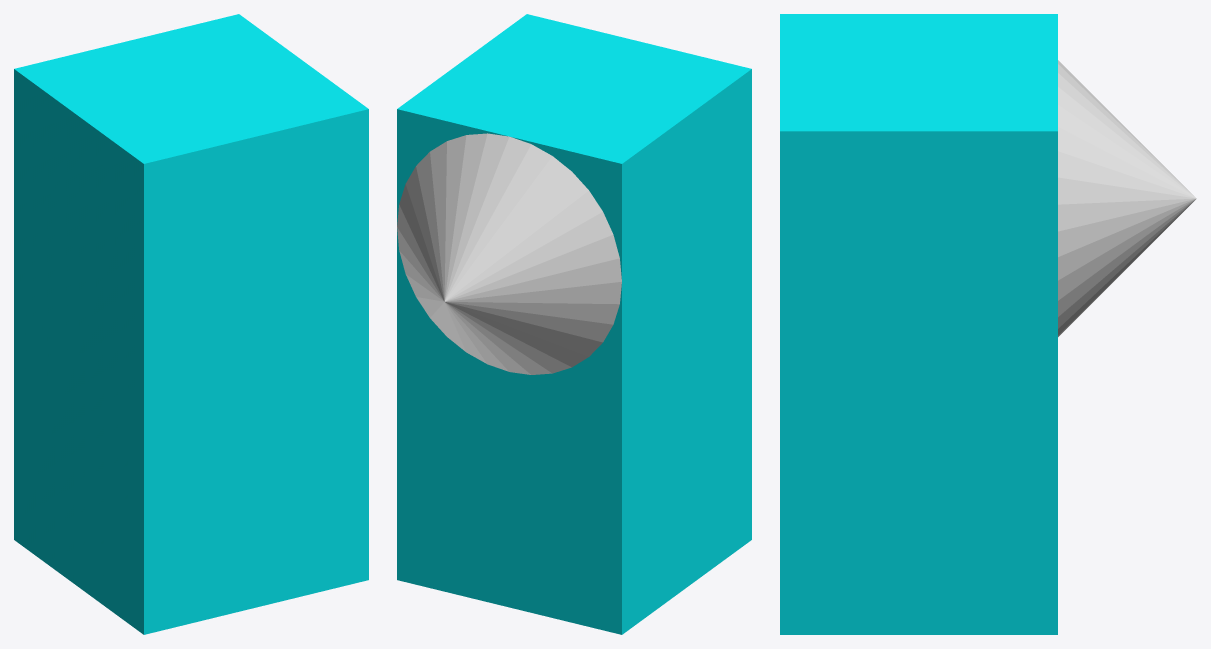
File: player.gltf
The picture shows the model from 3 angles, left to right: view 1: azimuth 30°, elevation 25°; view 2: azimuth 150°, elevation 25°; view 3: azimuth 270°, elevation 25°; orthographic projection. The views are drawn at different scales.
Visible parts, largest first — view 1: 立方体; view 2: 立方体; view 3: 立方体.
Boxes of the visible parts, x1,y1,x2,y2 form: 立方体: [14, 14, 368, 634]; 立方体: [397, 14, 751, 634]; 立方体: [780, 14, 1196, 634].
Bounding box in the file's own units: 2 × 4 × 3.
Materials: 1 (1 with a texture image).
